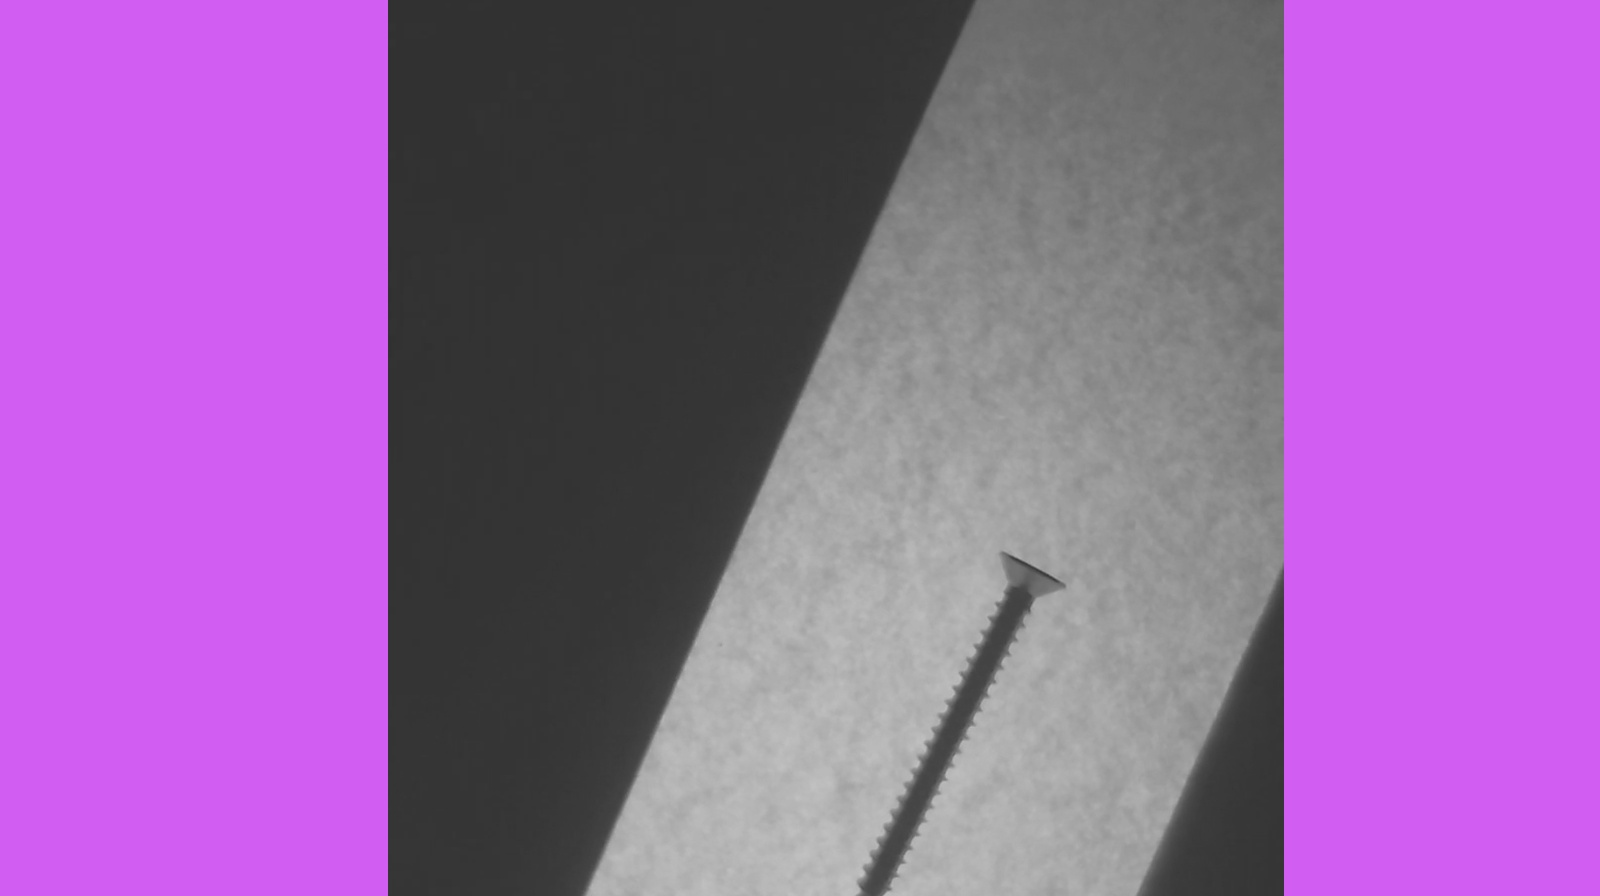S002: (805, 520, 1077, 895)
